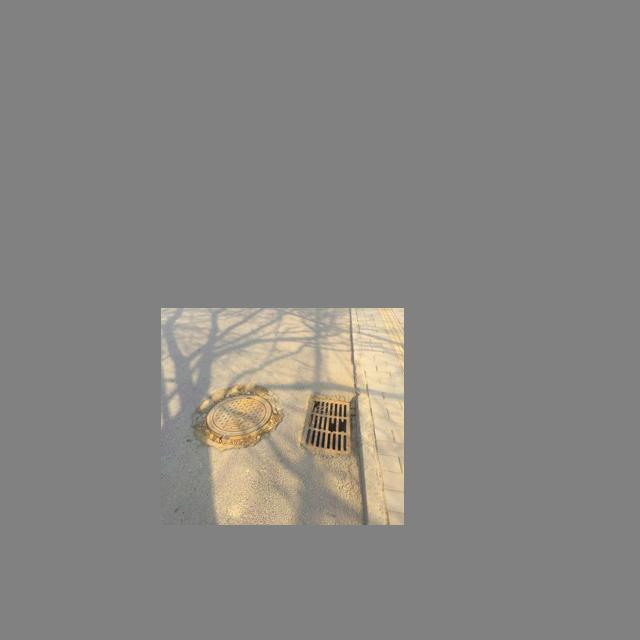circle: (191, 378, 286, 453)
